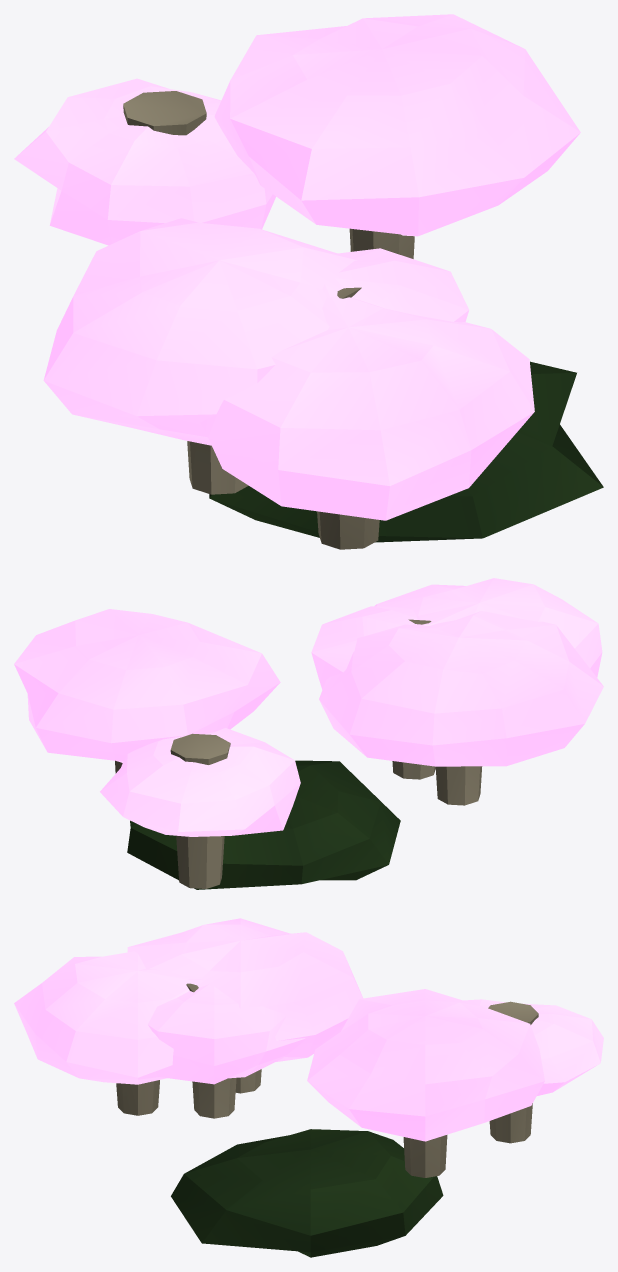
File: mushroom.glb
The picture shows the model from 3 angles, top to bottom: view 1: azimuth 30°, elevation 25°; view 2: azimuth 150°, elevation 25°; view 3: azimuth 270°, elevation 25°; orthographic projection. The views are drawn at different scales.
Visible parts, largest first — view 1: mushroom; view 2: mushroom; view 3: mushroom.
Part boxes in pixels (<box>): mushroom: <box>14,14,603,549</box>; mushroom: <box>14,578,603,889</box>; mushroom: <box>14,918,603,1257</box>.
Bounding box in the file's own units: 0.6015 × 0.3201 × 0.7332.
